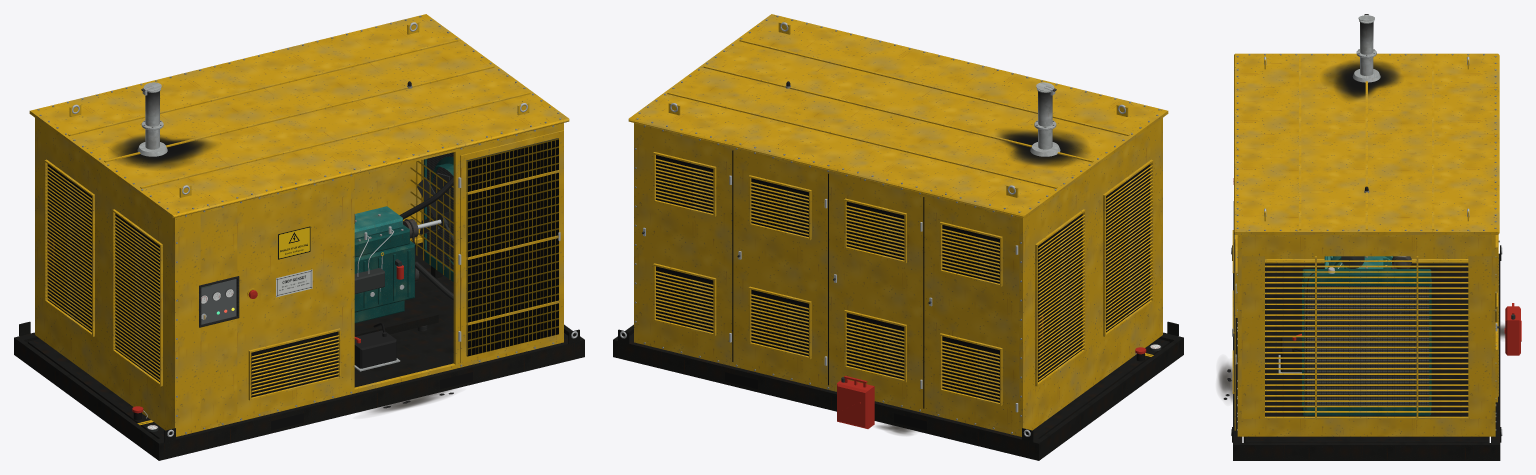
File: DieselGenerator.glb
3 renders of one model, left to right at view 1: azimuth 30°, elevation 25°; view 2: azimuth 150°, elevation 25°; view 3: azimuth 270°, elevation 25°, orthographic. The views are drawn at different scales.
Parts seen in each view (by area): view 1: DG_Canopy_Canopy, DG_Skid_Skid, DG_Canopy_Foam, DG_Canopy_Bore, DG_Engine_EngineTeal, DG_Canopy_Soot, DG_Engine_Dark, DG_Radiator_Mesh, DG_Details_Black, DG_Glass_Glass, DG_Radiator_Core, DG_Engine_Teal (+10 smaller); view 2: DG_Canopy_Canopy, DG_Canopy_Bore, DG_Skid_Skid, DG_Canopy_Soot, DG_Details_Red, DG_Exhaust_Galv, DG_Canopy_Bolts, DG_Skid_Bore, DG_Canopy_Steel; view 3: DG_Canopy_Canopy, DG_Skid_Skid, DG_Radiator_Core, DG_Radiator_EngineTeal, DG_Canopy_Soot, DG_Details_Red, DG_Exhaust_Galv, DG_Details_Black, DG_Details_Oil, DG_Canopy_Bolts, DG_Canopy_Dark.
Part boxes in pixels (left/top/right/bottom): DG_Canopy_Canopy: left=29, top=14, right=569, bottom=436; DG_Skid_Skid: left=14, top=242, right=584, bottom=460; DG_Canopy_Foam: left=467, top=138, right=558, bottom=356; DG_Canopy_Bore: left=47, top=164, right=338, bottom=397; DG_Engine_EngineTeal: left=354, top=224, right=414, bottom=323; DG_Canopy_Soot: left=111, top=135, right=215, bottom=169; DG_Engine_Dark: left=354, top=173, right=453, bottom=293; DG_Radiator_Mesh: left=410, top=161, right=453, bottom=279; DG_Details_Black: left=354, top=330, right=453, bottom=408; DG_Glass_Glass: left=148, top=279, right=236, bottom=428; DG_Radiator_Core: left=427, top=152, right=453, bottom=270; DG_Engine_Teal: left=354, top=206, right=402, bottom=239; DG_Canopy_Canopy: left=628, top=14, right=1168, bottom=436; DG_Canopy_Bore: left=656, top=150, right=1150, bottom=408; DG_Skid_Skid: left=613, top=321, right=1183, bottom=460; DG_Canopy_Soot: left=998, top=129, right=1087, bottom=166; DG_Details_Red: left=837, top=376, right=874, bottom=428; DG_Exhaust_Galv: left=1034, top=88, right=1056, bottom=149; DG_Canopy_Bolts: left=634, top=15, right=1160, bottom=433; DG_Skid_Bore: left=725, top=372, right=926, bottom=430; DG_Canopy_Steel: left=643, top=22, right=1125, bottom=412; DG_Canopy_Canopy: left=1232, top=53, right=1499, bottom=436; DG_Skid_Skid: left=1232, top=245, right=1501, bottom=460; DG_Radiator_Core: left=1304, top=286, right=1429, bottom=405; DG_Radiator_EngineTeal: left=1302, top=269, right=1431, bottom=415; DG_Canopy_Soot: left=1323, top=60, right=1400, bottom=100; DG_Details_Red: left=1292, top=303, right=1521, bottom=355; DG_Exhaust_Galv: left=1356, top=19, right=1376, bottom=75; DG_Details_Black: left=1223, top=337, right=1301, bottom=399; DG_Details_Oil: left=1217, top=324, right=1505, bottom=401; DG_Canopy_Bolts: left=1236, top=54, right=1496, bottom=430; DG_Canopy_Dark: left=1233, top=201, right=1499, bottom=422.
Size of what is drawn, in the model's own units: 11.6 by 7.96 by 7.91.
Materials: 38 (26 with a texture image).
